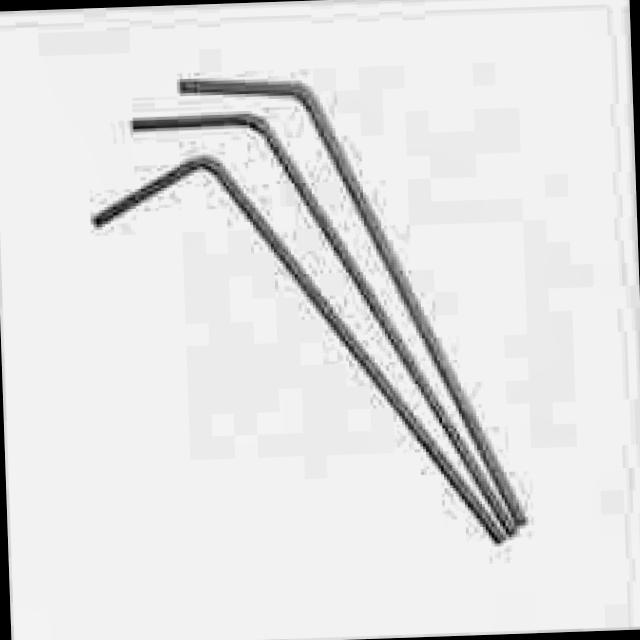plastic straw: (94, 160, 506, 541), (132, 118, 513, 526), (181, 80, 524, 524)
